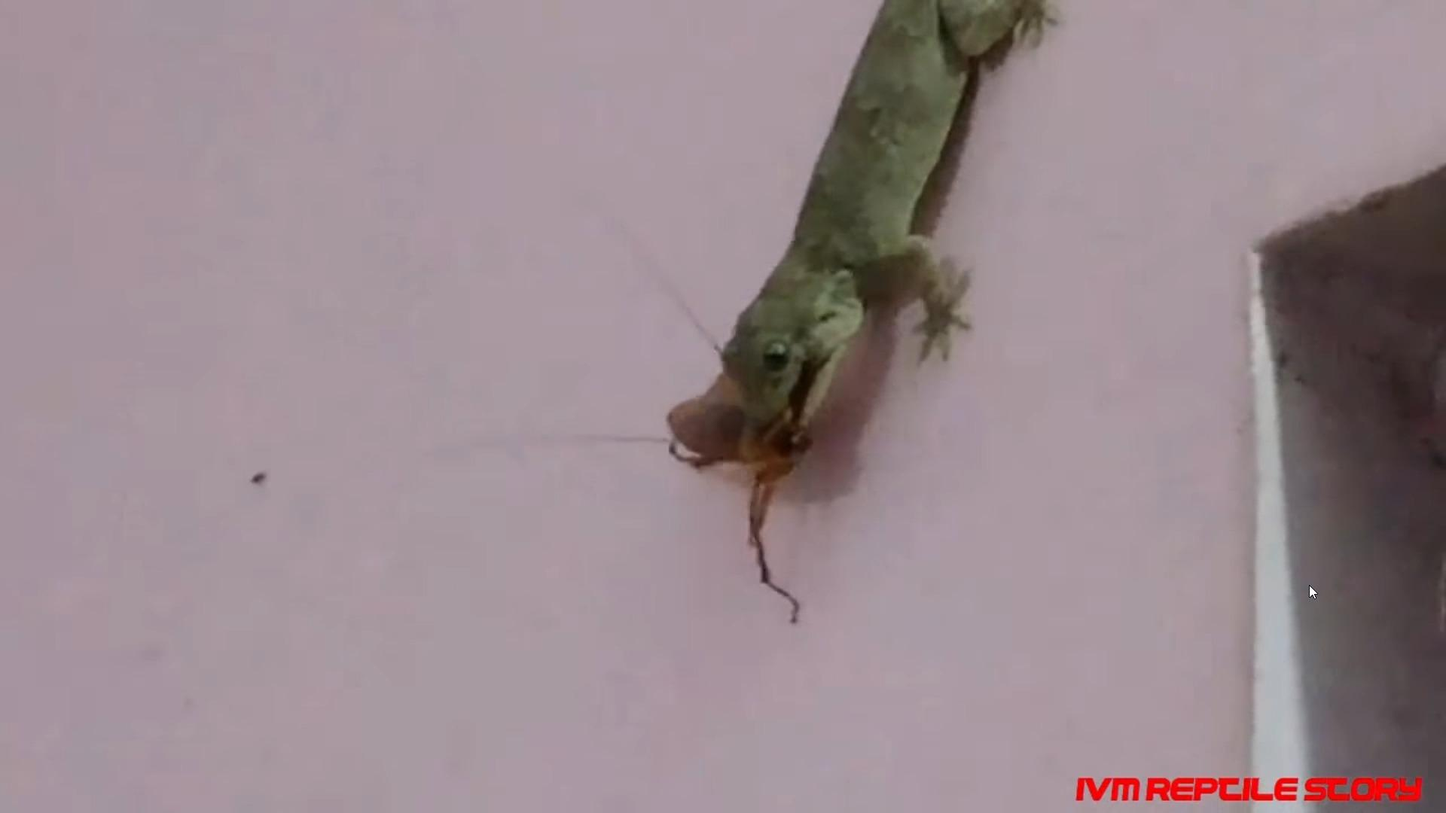cockroach: (661, 382, 812, 506)
lizard: (724, 12, 1031, 429)
